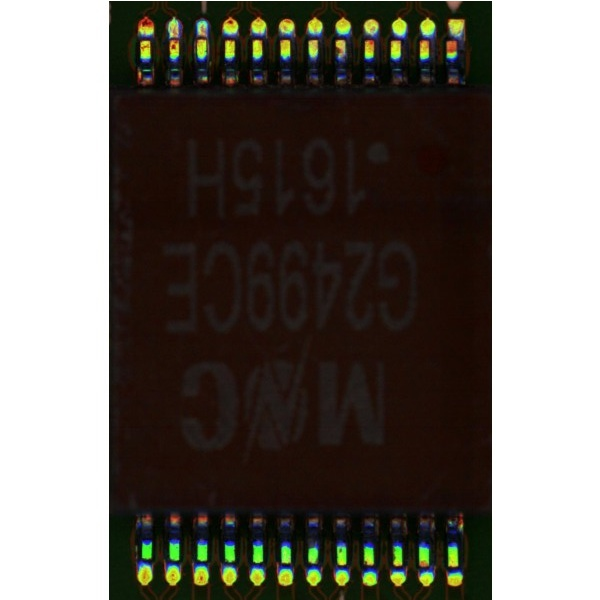Bad_podu: (172, 27, 180, 49), (199, 25, 205, 48)
